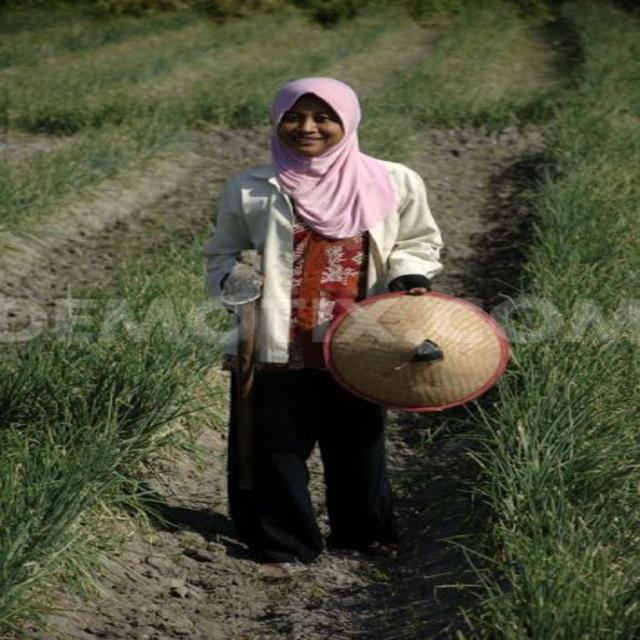Face: (273, 91, 351, 162)
